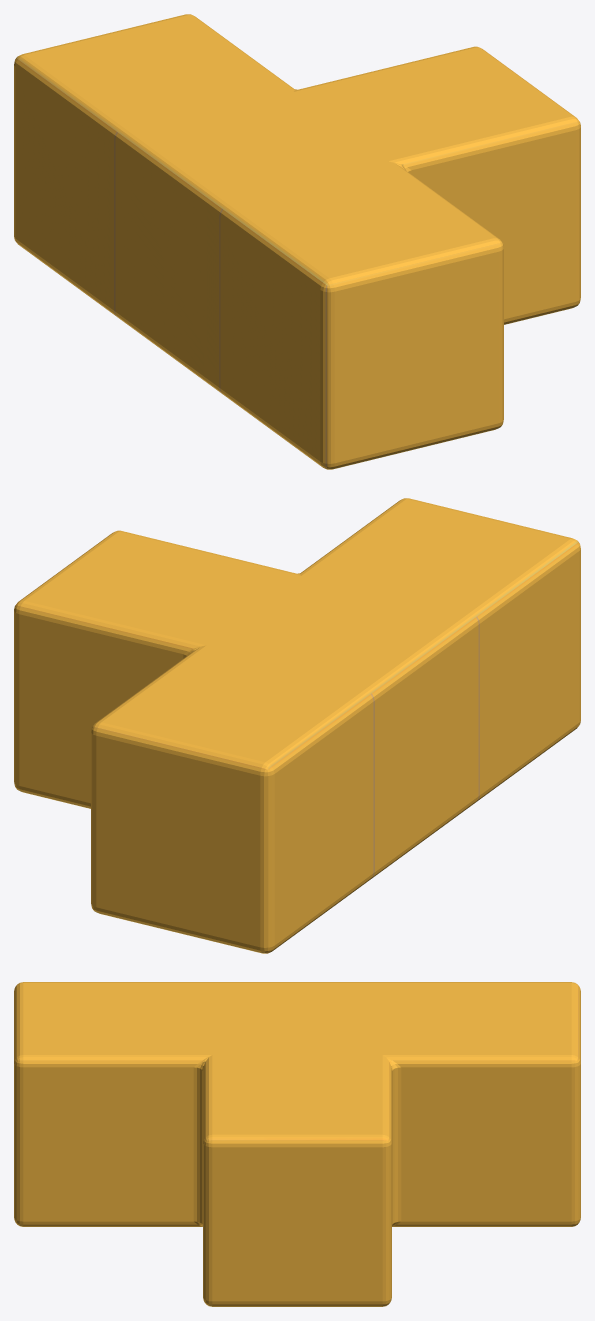
3 views of the same model, one above another, from view 1: azimuth 30°, elevation 25°; view 2: azimuth 150°, elevation 25°; view 3: azimuth 270°, elevation 25° (orthographic). The views are drawn at different scales.
Visible parts, largest first — view 1: T.001; view 2: T.001; view 3: T.001.
Part boxes in pixels (x1=…): T.001: x1=14, y1=14, x2=580, y2=469; T.001: x1=14, y1=498, x2=580, y2=953; T.001: x1=14, y1=982, x2=580, y2=1306.
Bounding box in the file's own units: 4 × 2 × 6.
1 material, 1 textured.
